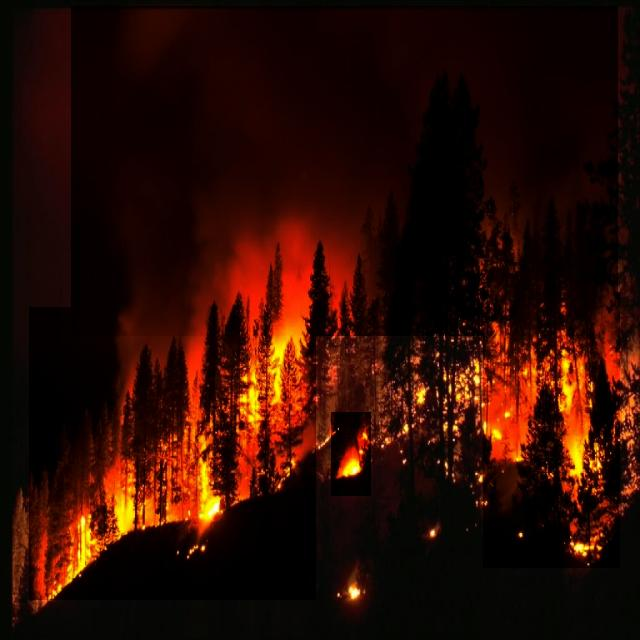Fire: (29, 307, 316, 600), (483, 292, 620, 568), (332, 412, 372, 496)
Smoke: (71, 6, 618, 336)
